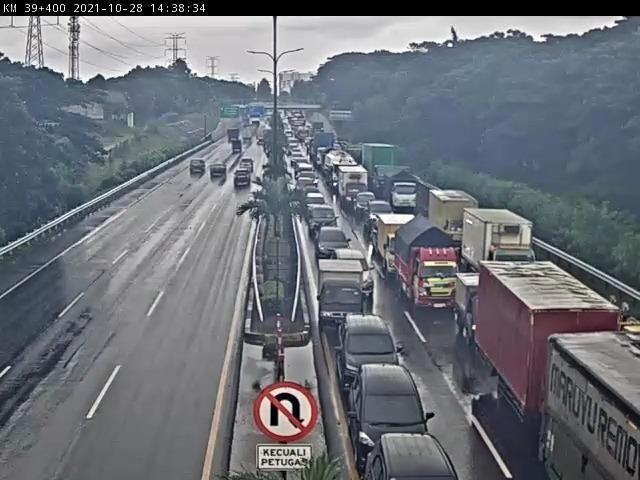car: (357, 364, 434, 432), (336, 321, 411, 378), (375, 431, 460, 480), (338, 250, 372, 297), (316, 227, 350, 257), (311, 210, 348, 237), (357, 191, 386, 219), (371, 200, 393, 232), (187, 157, 209, 178), (233, 170, 254, 190), (211, 160, 228, 182), (306, 195, 328, 212), (237, 155, 253, 175)
truck: (483, 267, 616, 404), (544, 331, 636, 476), (466, 210, 536, 282), (401, 216, 458, 299), (320, 258, 378, 321), (456, 275, 499, 340), (375, 217, 423, 274), (429, 190, 477, 240), (385, 170, 421, 208), (339, 167, 372, 207)
